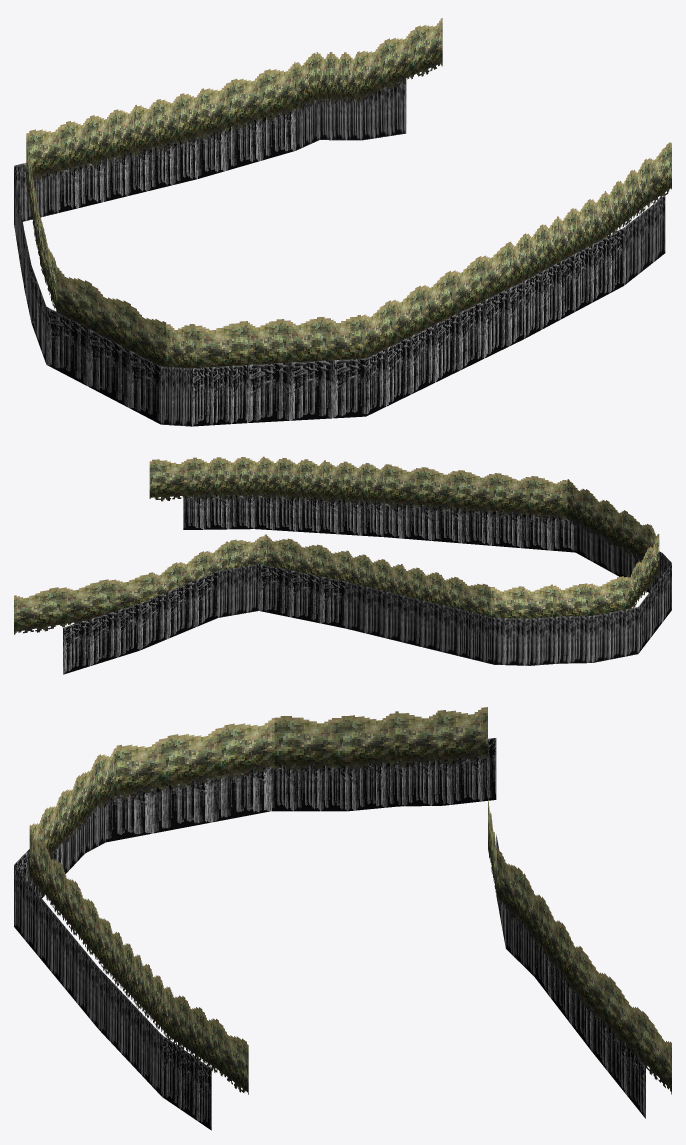
Rendered from kokiri0-treeline.obj.
3 renders of one model, top to bottom at view 1: azimuth 30°, elevation 25°; view 2: azimuth 150°, elevation 25°; view 3: azimuth 270°, elevation 25°, orthographic. The views are drawn at different scales.
Visible parts, largest first — view 1: kokiri0-treeline; view 2: kokiri0-treeline; view 3: kokiri0-treeline.
Boxes of the visible parts, <box> form: kokiri0-treeline: <box>14,18,671,426</box>; kokiri0-treeline: <box>14,456,671,674</box>; kokiri0-treeline: <box>14,707,671,1130</box>.
Size of the model in its own units: 5753 by 1508 by 5006.
Materials: 2 (2 with a texture image).
